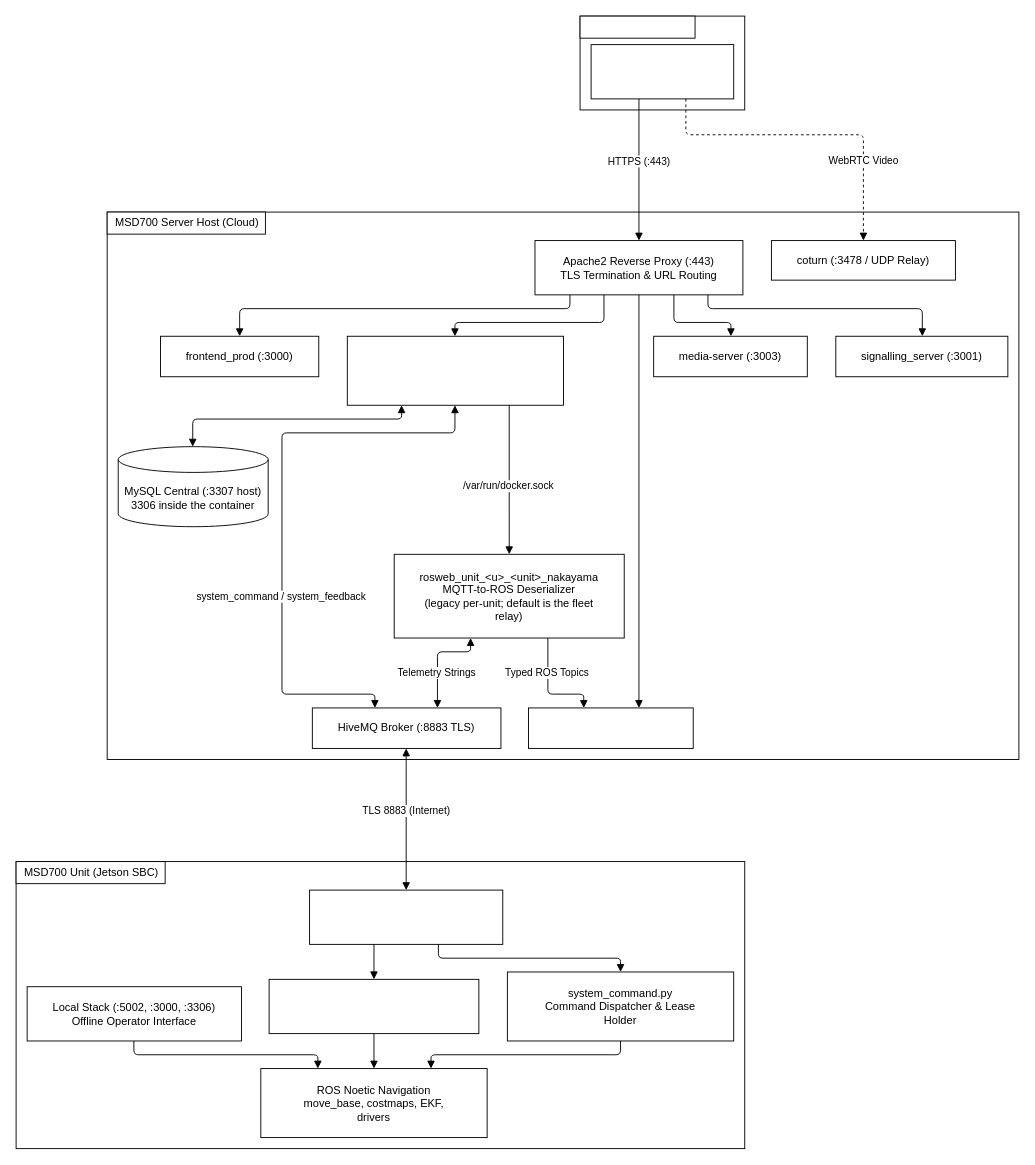
This 1035x1165 diagram has some shape labels left out. The centre of each missing label's shape, as x and y in pixels:
"aws_mqtt Bridge Cloud TLS + Local Loopback" belongs at pixel 406 916.
"backend_node (:5000) REST API + unit_manager.js (process inside nakayama_cloud)" belongs at pixel 455 370.
"operation_supervisor.py Autopilot & Waypoint Sequencer" belongs at pixel 373 1006.
"Operator Browser Next.js Dashboard" belongs at pixel 662 71.
"Operator Web Client" belongs at pixel 637 26.
"rosbridge_suite (:9090)" belongs at pixel 610 727.
